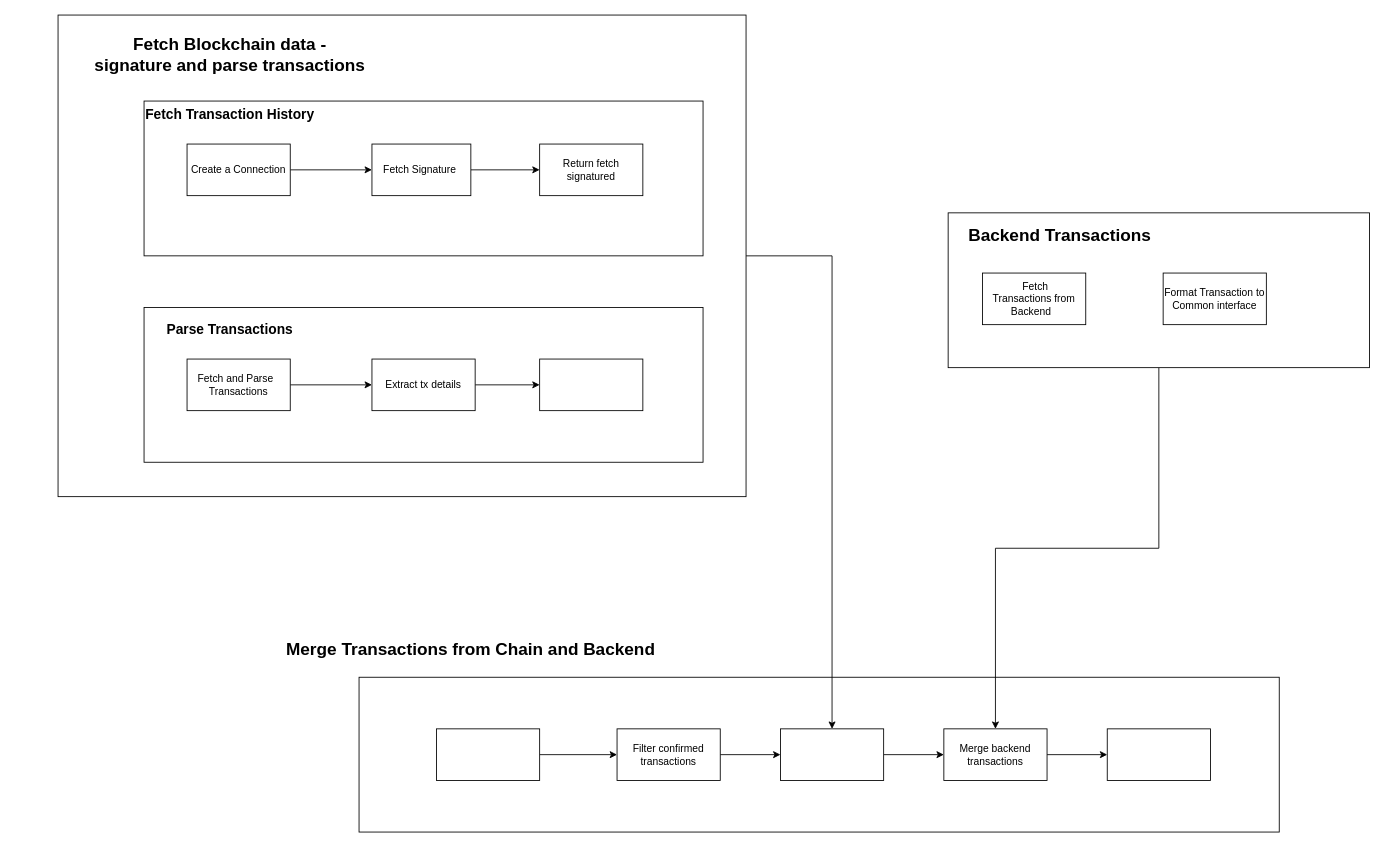
This 1385x847 diagram has some shape labels left out. The shapes that lost their labels are listed below. From the top down, each one's centre as x and y in pixels, then its label:
At point 591,384: "Return parsed details".
At point 488,754: "Fetch Latest Sigatures".
At point 832,754: "Fetch and Parse BlockChain Transactions".
At point 1158,754: "Update tramsaction state".
